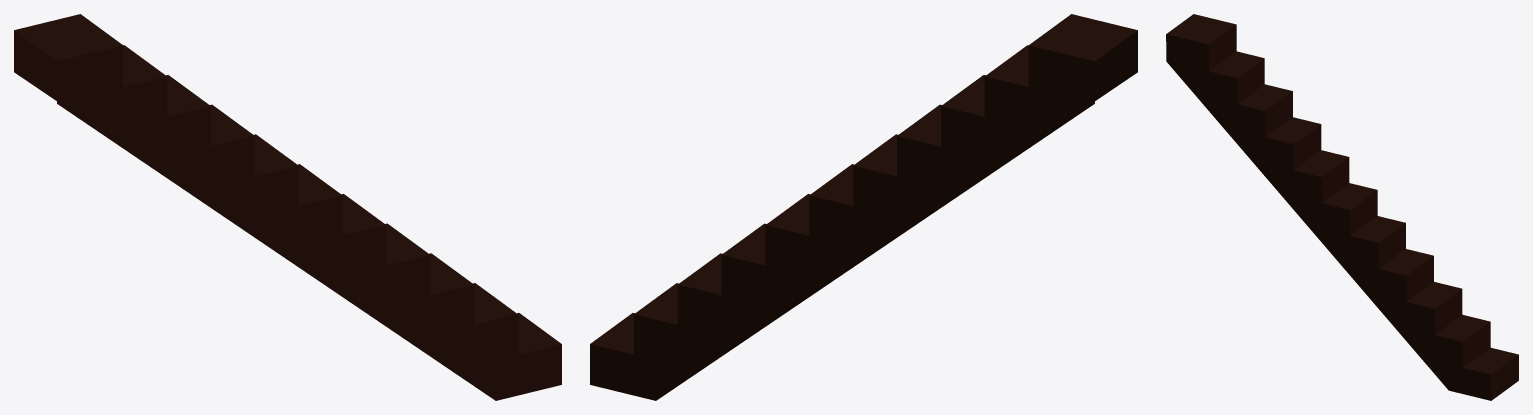
The model's file is gedan.FBX.
3 renders of one model, left to right at view 1: azimuth 30°, elevation 25°; view 2: azimuth 150°, elevation 25°; view 3: azimuth 330°, elevation 25°, orthographic. The views are drawn at different scales.
Visible parts, largest first — view 1: Box004; view 2: Box004; view 3: Box004.
Part boxes in pixels (bbox=[...]): Box004: bbox=[14, 14, 561, 400]; Box004: bbox=[590, 14, 1137, 400]; Box004: bbox=[1166, 14, 1518, 400].
Bounding box in the file's own units: 516 × 436 × 75.71.
